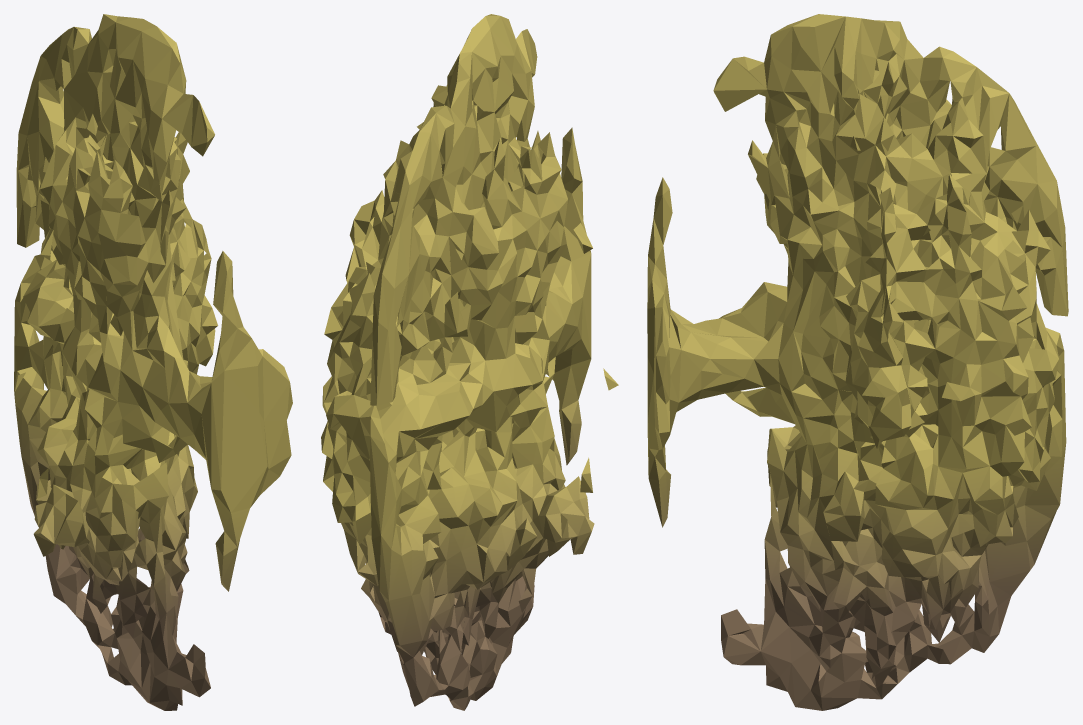
Rendered from tree_yellow.glb.
3 renders of one model, left to right at view 1: azimuth 30°, elevation 25°; view 2: azimuth 150°, elevation 25°; view 3: azimuth 270°, elevation 25°, orthographic. The views are drawn at different scales.
Visible parts, largest first — view 1: world; view 2: world; view 3: world.
Boxes of the visible parts, x1,y1,x2,y2 form: world: (14,14,292,710); world: (321,14,618,710); world: (647,14,1068,710).
Size of the model in its own units: 2.78 by 8 by 4.4.
